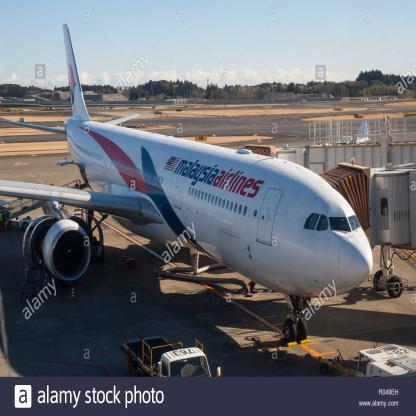CIV_Plane: (0, 19, 381, 350)
